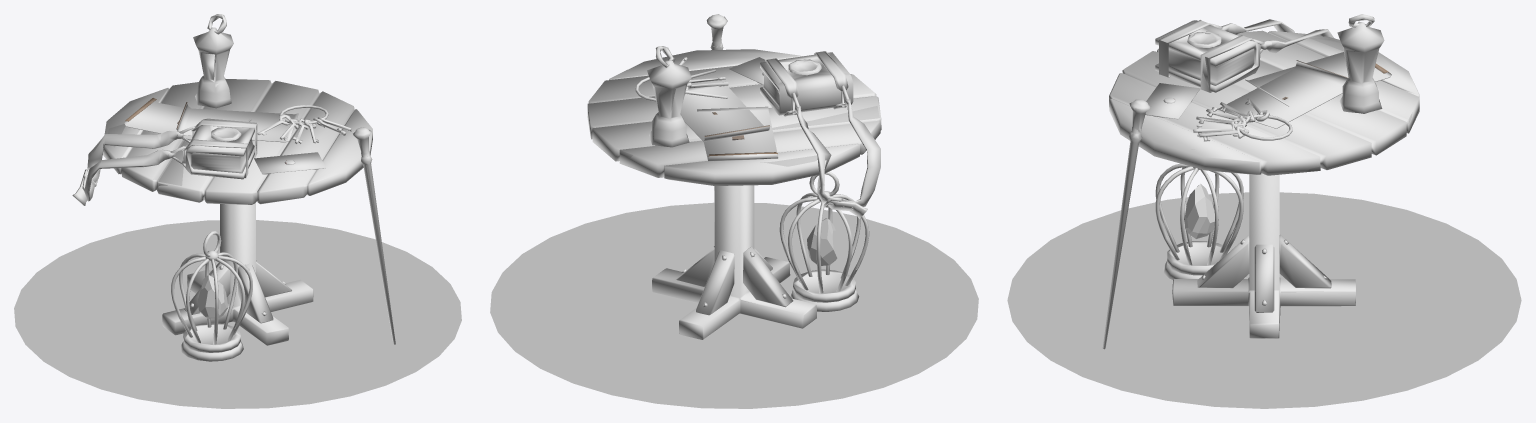
Rendered from Book.fbx.
3 renders of one model, left to right at view 1: azimuth 30°, elevation 25°; view 2: azimuth 150°, elevation 25°; view 3: azimuth 270°, elevation 25°, orthographic. The views are drawn at different scales.
Parts seen in each view (by area): view 1: carpet, Cylinder.001, Cylinder, Letters, Straps.001, Lantern, Book_Cover, cane, Straps, Book_Pages, crystal; view 2: carpet, Cylinder.001, Letters, Cylinder, Lantern, Book_Cover, Straps.001, Straps, crystal, cane; view 3: carpet, Cylinder.001, Letters, Cylinder, Lantern, Book_Cover, cane, Straps, Book_Pages, crystal, Straps.001, Key_Gold.
Boxes of the visible parts, box(x1,y1,x2,y2) form: carpet: box(14, 220, 461, 408); Cylinder.001: box(103, 78, 372, 345); Cylinder: box(171, 230, 252, 361); Letters: box(124, 98, 325, 174); Straps.001: box(72, 131, 183, 205); Lantern: box(193, 14, 233, 108); Book_Cover: box(185, 118, 256, 179); cane: box(353, 127, 395, 344); Straps: box(168, 119, 257, 178); Book_Pages: box(191, 139, 254, 173); crystal: box(198, 275, 228, 318); carpet: box(490, 202, 978, 408); Cylinder.001: box(587, 49, 881, 339); Letters: box(680, 57, 778, 161); Cylinder: box(779, 171, 869, 311); Lantern: box(647, 46, 691, 147); Book_Cover: box(760, 52, 853, 115); Straps.001: box(795, 98, 880, 218); Straps: box(765, 51, 849, 116); crystal: box(807, 218, 840, 265); cane: box(706, 14, 727, 221); carpet: box(1007, 192, 1521, 408); Cylinder.001: box(1109, 30, 1419, 338); Letters: box(1145, 52, 1391, 128); Cylinder: box(1155, 163, 1243, 279); Lantern: box(1337, 14, 1384, 113); Book_Cover: box(1155, 20, 1260, 92); cane: box(1102, 99, 1150, 349); Straps: box(1159, 20, 1264, 92); Book_Pages: box(1168, 49, 1254, 85); crystal: box(1185, 183, 1214, 238); Straps.001: box(1221, 19, 1333, 53); Key_Gold: box(1187, 31, 1221, 47).
Size of the model in its own units: 1378 by 891 by 1378.
